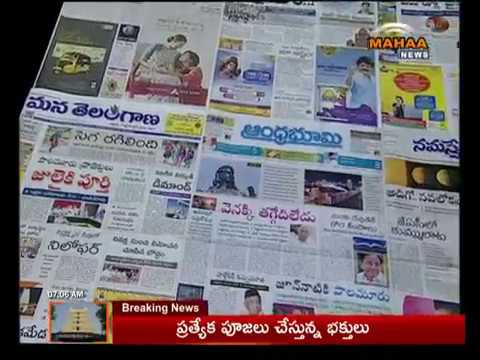news_paper: (7, 3, 476, 352)
